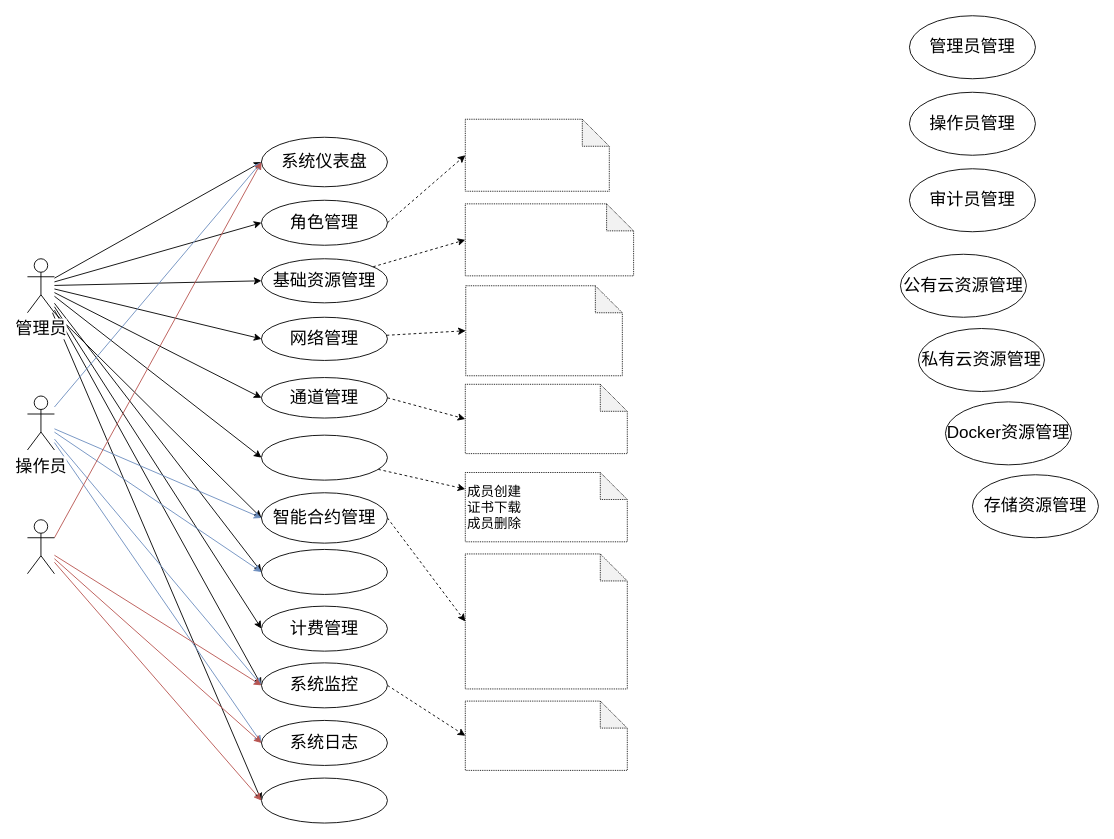
The diagram is 1114 pixels wide and 839 high, and some of its shapes have lost their labels. Here are the shapes that lost their labels. From the top down, the centre of each, then its label:
(x=536, y=154): 管理员增删改查 角色增删改查 角色权限 角色成员管理
(x=549, y=239): 基础主机管理 公有云资源管理 私有云管理（K8S）
(x=543, y=330): 网络创建 网络加入 网络退出 联盟成员加入审批 已有网络接管
(x=545, y=418): 通道创建 通道申请加入 通道退出
(x=324, y=457): 成员管理
(x=40, y=546): 审计员
(x=324, y=571): 事件管理
(x=545, y=621): 合约在线开发 合约在线测试 合约创建保存 合约查询 合约删除 合约部署 合约升级 版本管理
(x=545, y=735): 状态监控 状态管理(启停操作)
(x=324, y=800): 统计报表
